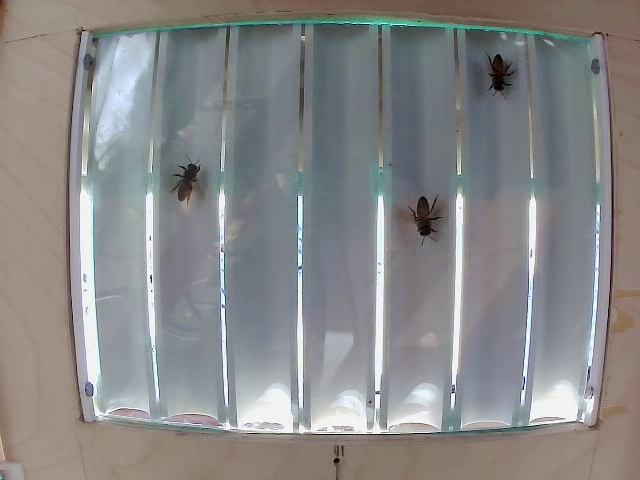bee: (400, 192, 443, 245), (160, 166, 213, 202), (487, 53, 515, 102)
